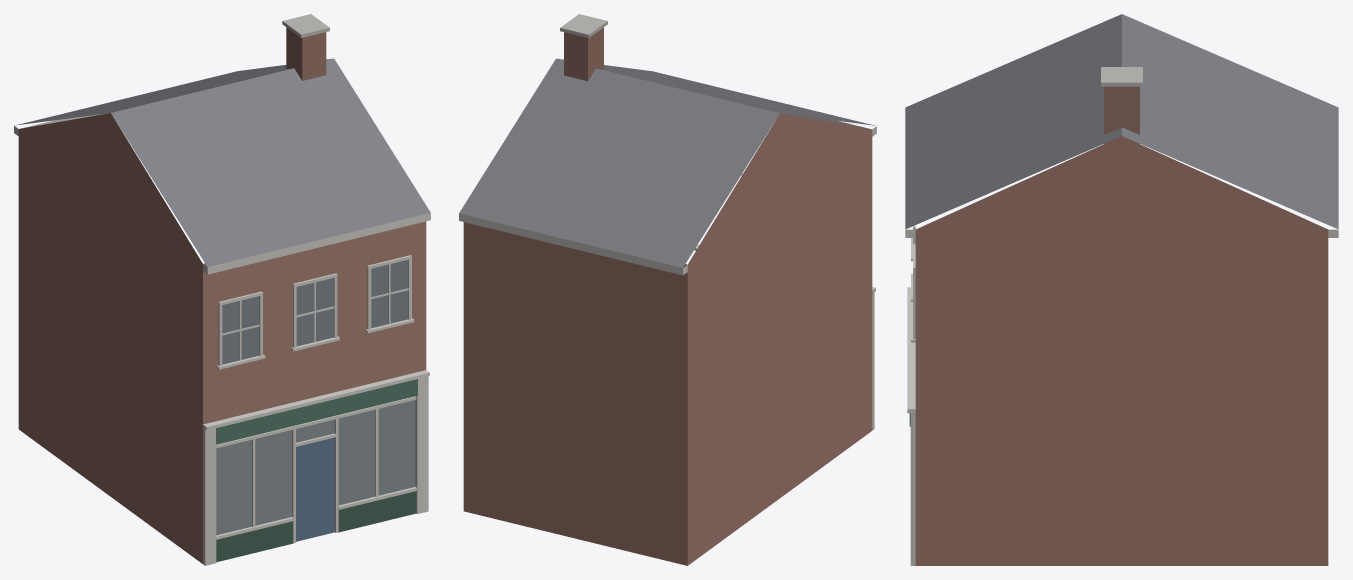
File: pub.glb
3 renders of one model, left to right at view 1: azimuth 30°, elevation 25°; view 2: azimuth 150°, elevation 25°; view 3: azimuth 270°, elevation 25°, orthographic. The views are drawn at different scales.
Parts seen in each view (by area): view 1: Part0; view 2: Part0; view 3: Part0.
Part boxes in pixels (x1,y1,x2,y2): Part0: (14, 14, 430, 565); Part0: (459, 14, 876, 565); Part0: (905, 14, 1338, 565).
Size of the model in its own units: 5.6 by 10.18 by 8.4.
